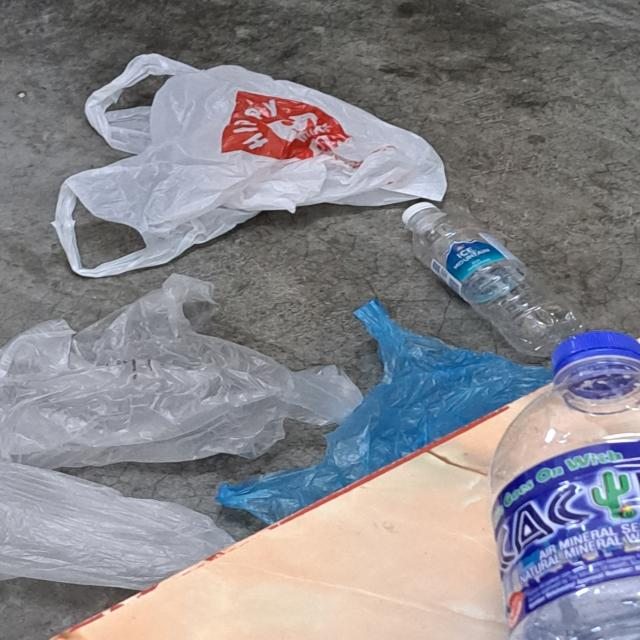plastic bag: (52, 51, 448, 279), (218, 299, 556, 524), (0, 271, 367, 468), (0, 460, 236, 589)
plastic bottle: (495, 357, 640, 640), (411, 212, 587, 357)
plastic bottle cap: (550, 329, 640, 380), (402, 201, 439, 226)
